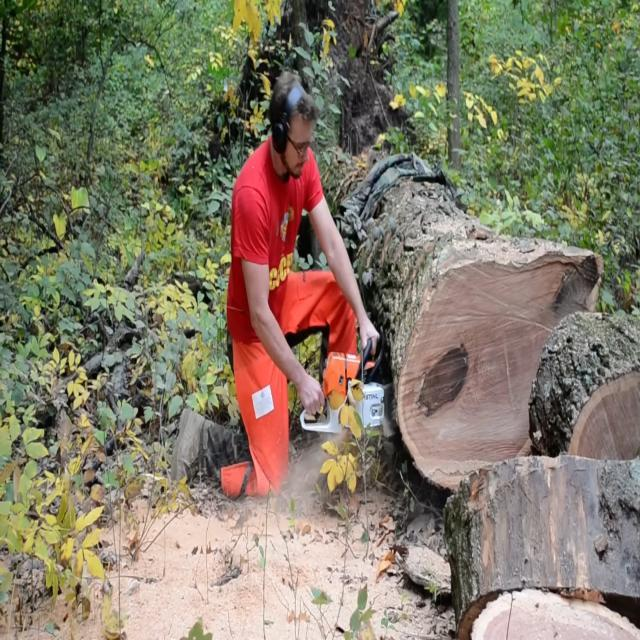Chainsaw: (280, 317, 412, 442)
